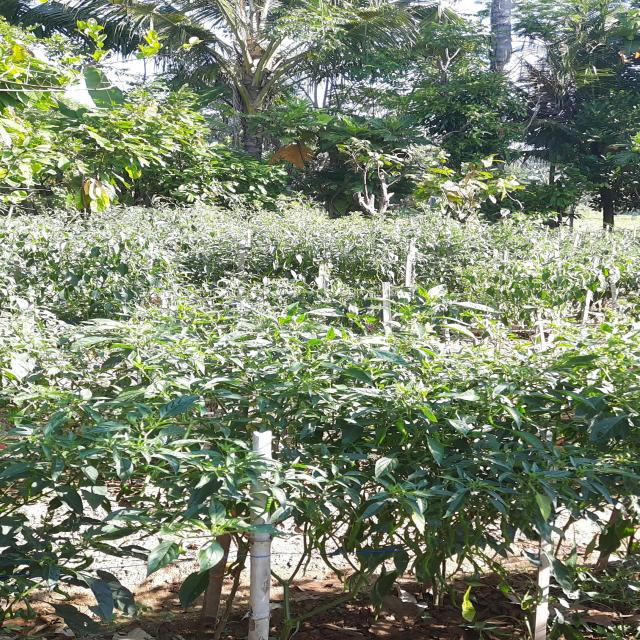sehat: (163, 395, 210, 417), (368, 450, 404, 476)
